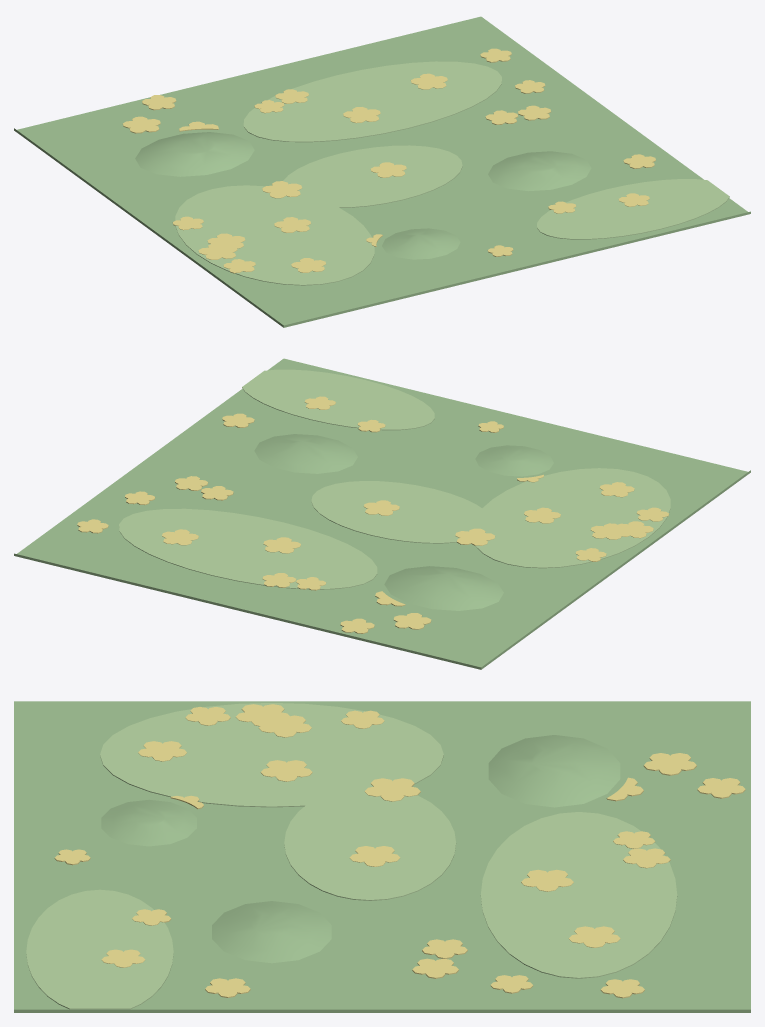
3 views of the same model, one above another, from view 1: azimuth 30°, elevation 25°; view 2: azimuth 150°, elevation 25°; view 3: azimuth 270°, elevation 25° (orthographic). The views are drawn at different scales.
Parts seen in each view (by area): view 1: Safety_Pad, Meadow_Inlay, Terrain, Flower_Inlay; view 2: Safety_Pad, Meadow_Inlay, Terrain, Flower_Inlay; view 3: Safety_Pad, Meadow_Inlay, Terrain, Flower_Inlay.
Part boxes in pixels (x1=…): Safety_Pad: x1=14, y1=16, x2=750, y2=327; Meadow_Inlay: x1=175, y1=61, x2=729, y2=285; Terrain: x1=135, y1=132, x2=591, y2=259; Flower_Inlay: x1=122, y1=48, x2=655, y2=273; Safety_Pad: x1=14, y1=358, x2=750, y2=669; Meadow_Inlay: x1=119, y1=369, x2=670, y2=589; Terrain: x1=254, y1=434, x2=553, y2=610; Flower_Inlay: x1=77, y1=396, x2=669, y2=633; Safety_Pad: x1=14, y1=701, x2=750, y2=1012; Meadow_Inlay: x1=26, y1=703, x2=677, y2=1009; Terrain: x1=101, y1=735, x2=620, y2=963; Flower_Inlay: x1=54, y1=704, x2=745, y2=998.
Size of what is drawn, in the model's own units: 6 by 0.12 by 6.
